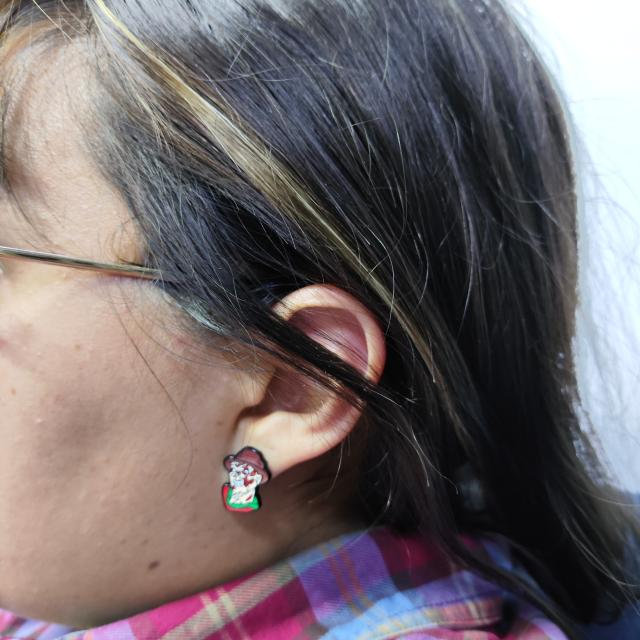ear: (221, 362, 361, 479), (274, 285, 386, 382)
